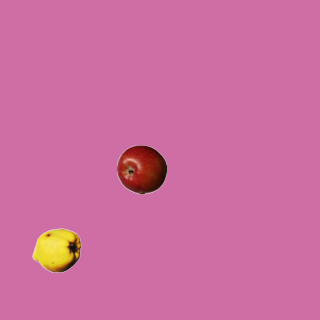Apple Braeburn: (116, 144, 166, 194)
Quince: (31, 225, 81, 275)
